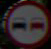No overtake: (3, 1, 47, 40)
